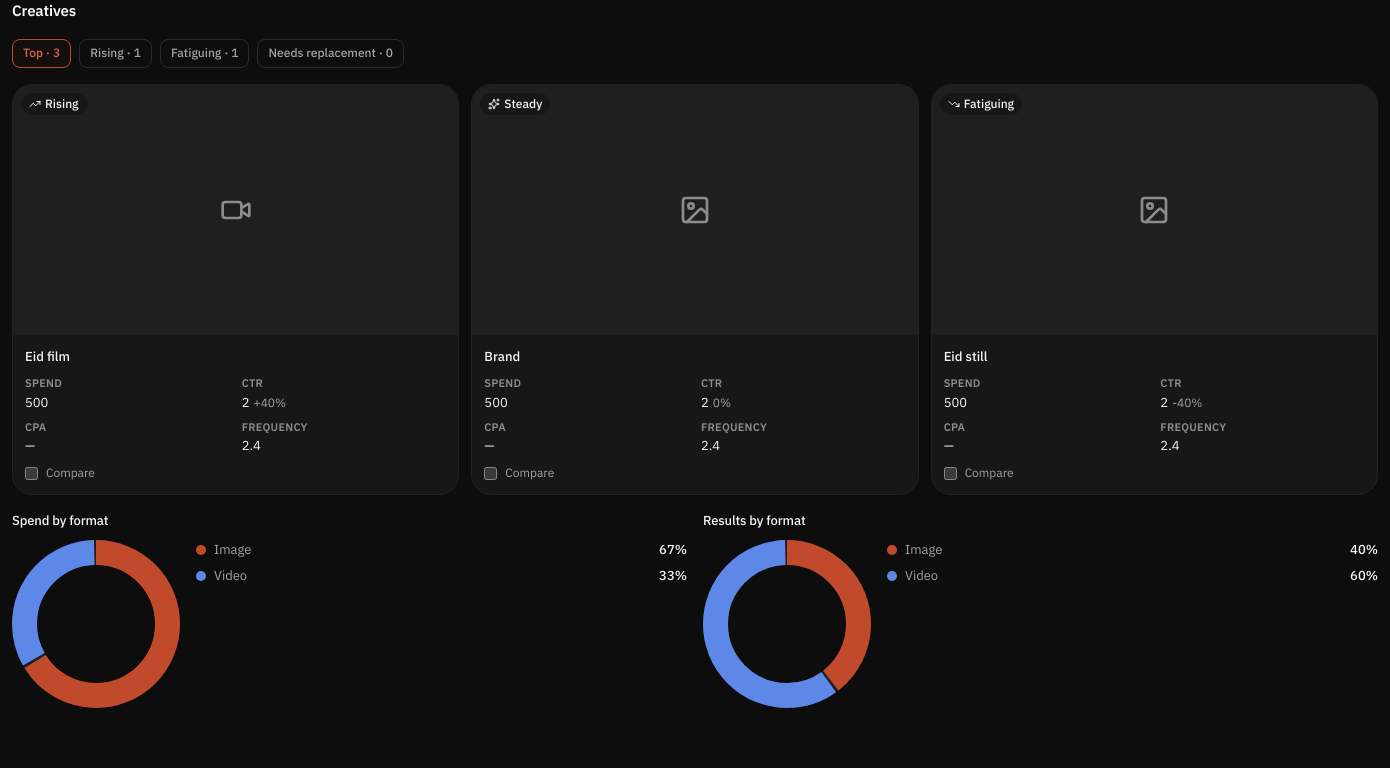
Test: CreativeIntelligence › compares two to four creatives, and not with one
This screenshot has width=1390, height=768.
Expected: the text "Eid film" is shown, [25,347,70,366]
Click the checkbox labelled "Compare" below "+40%". click: (32, 473)
box: [25,467,38,480]
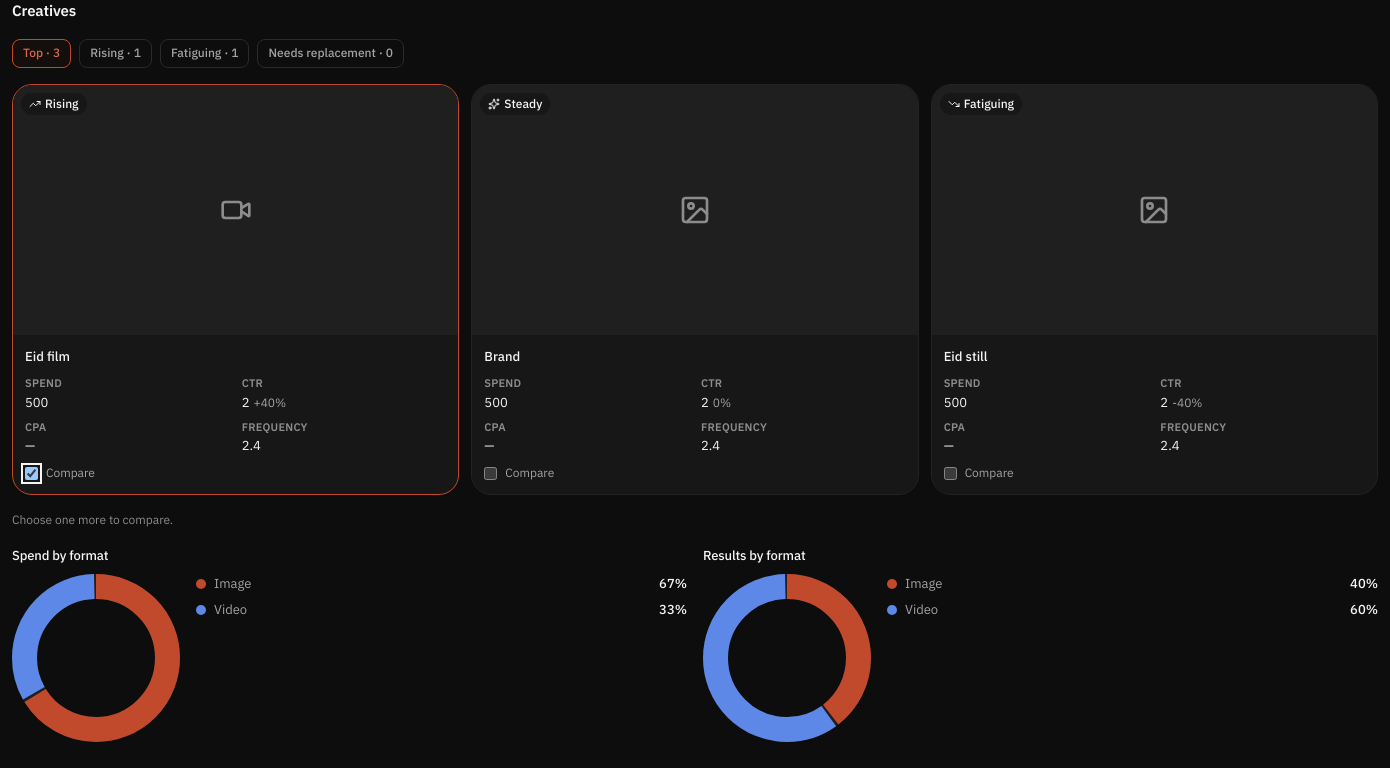
Now the text "Choose one more to compare." is shown, box [12,512,173,530]
Click the checkbox labelled "Compare" below "Brand". click: (491, 473)
box: [484,467,497,480]
(page scrolled)
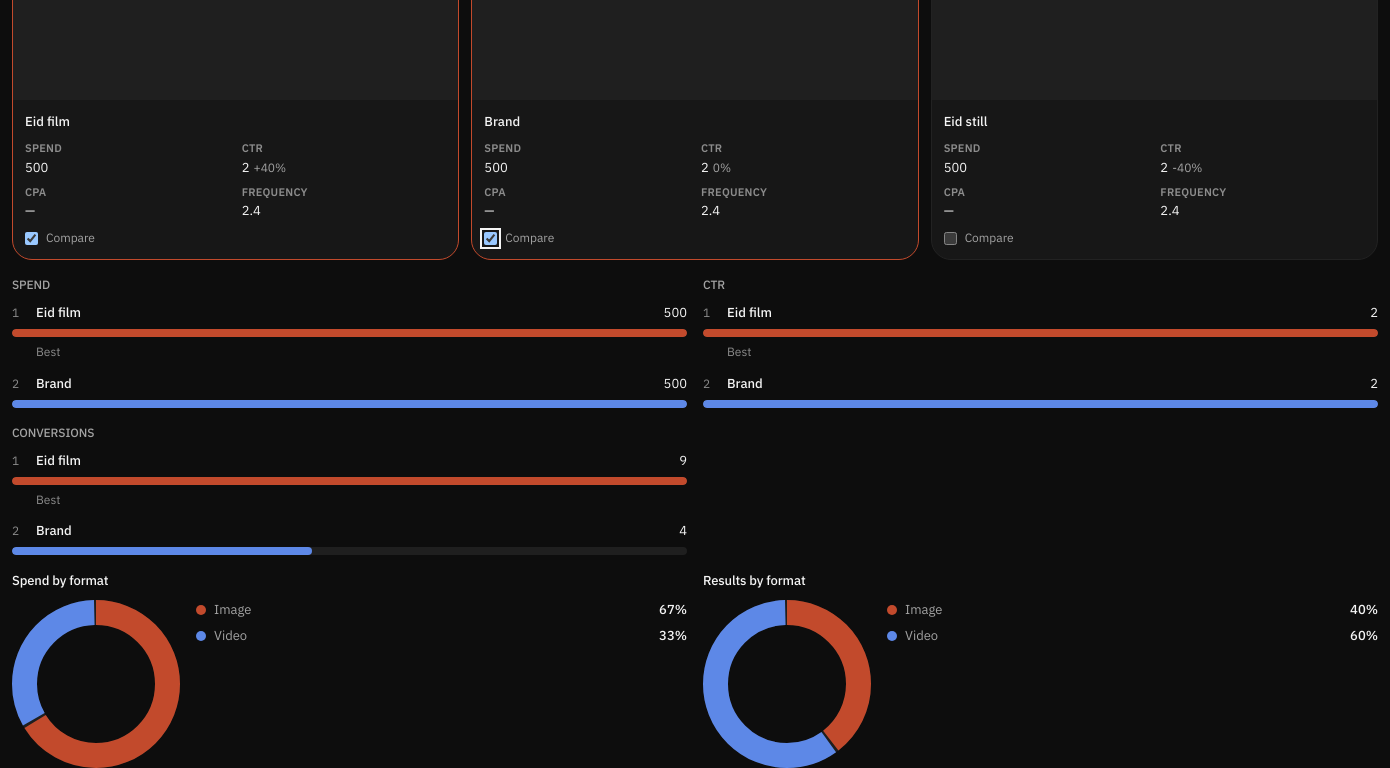
Now the element named "Comparison" is shown, box [12,276,1378,555]
